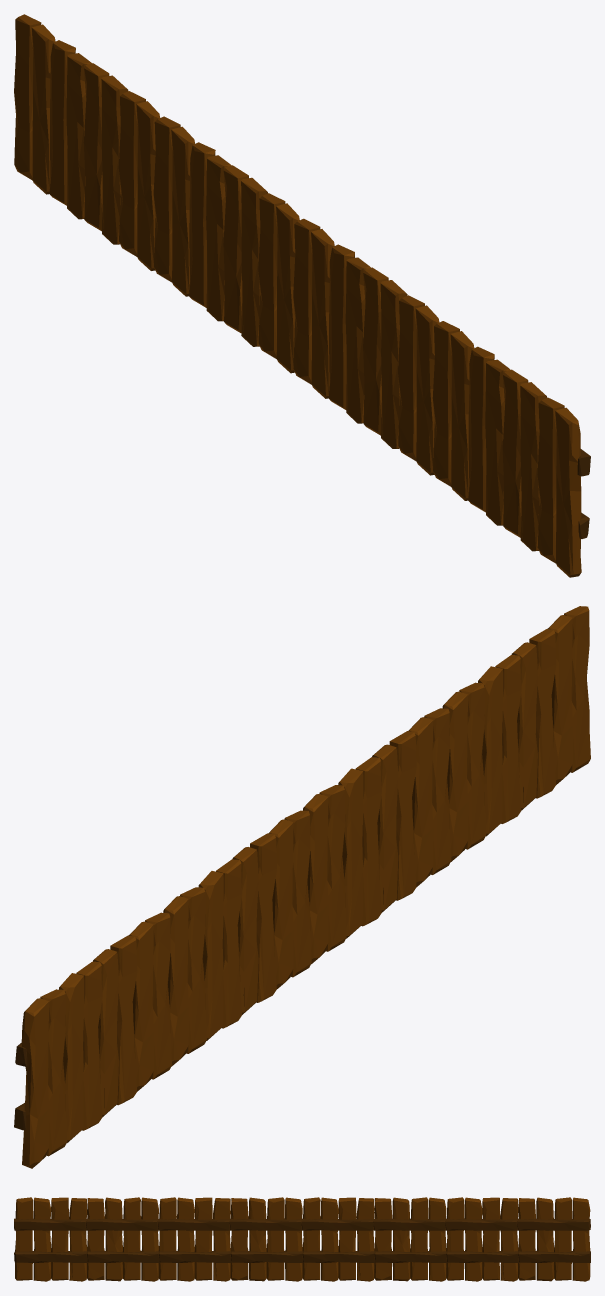
The model's file is PicketFence 8M.fbx.
3 renders of one model, top to bottom at view 1: azimuth 30°, elevation 25°; view 2: azimuth 150°, elevation 25°; view 3: azimuth 270°, elevation 25°, orthographic. The views are drawn at different scales.
Parts seen in each view (by area): view 1: Cube.032, Cube.033, Cube.069, Cube.055, Cube.081, Cube.040, Cube.054, Cube.056, Cube.076, Cube.070, Cube.080, Cube.088 (+20 smaller); view 2: Cube.087, Cube.071, Cube.061, Cube.075, Cube.035, Cube.039, Cube.057, Cube.083, Cube.053, Cube.067, Cube.079, Cube.031 (+20 smaller); view 3: Cube.069, Cube.055, Cube.081, Cube.033, Cube.062, Cube.040, Cube.054, Cube.076, Cube.068, Cube.088, Cube.079, Cube.067 (+36 smaller).
Boxes of the visible parts, bbox=[...] form: Cube.032: bbox=[555, 407, 581, 577]; Cube.033: bbox=[520, 382, 546, 551]; Cube.069: bbox=[241, 177, 267, 346]; Cube.055: bbox=[380, 280, 407, 448]; Cube.081: bbox=[101, 75, 128, 244]; Cube.040: bbox=[450, 331, 474, 500]; Cube.054: bbox=[415, 305, 439, 475]; Cube.056: bbox=[345, 257, 370, 423]; Cube.076: bbox=[171, 126, 194, 296]; Cube.070: bbox=[206, 155, 231, 321]; Cube.080: bbox=[136, 101, 160, 270]; Cube.088: bbox=[31, 24, 55, 194]; Cube.087: bbox=[21, 998, 49, 1168]; Cube.071: bbox=[198, 871, 223, 1040]; Cube.061: bbox=[303, 793, 328, 964]; Cube.075: bbox=[163, 896, 188, 1066]; Cube.035: bbox=[478, 666, 502, 836]; Cube.039: bbox=[442, 691, 468, 861]; Cube.057: bbox=[338, 768, 363, 938]; Cube.083: bbox=[59, 973, 83, 1142]; Cube.053: bbox=[408, 717, 433, 887]; Cube.067: bbox=[269, 819, 293, 988]; Cube.079: bbox=[129, 921, 153, 1091]; Cube.031: bbox=[548, 615, 572, 784]; Cube.069: bbox=[338, 1197, 356, 1280]; Cube.055: bbox=[194, 1197, 212, 1280]; Cube.081: bbox=[482, 1197, 500, 1280]; Cube.033: bbox=[51, 1197, 68, 1280]; Cube.062: bbox=[266, 1197, 284, 1280]; Cube.040: bbox=[122, 1197, 140, 1280]; Cube.054: bbox=[158, 1197, 176, 1280]; Cube.076: bbox=[410, 1197, 428, 1280]; Cube.068: bbox=[302, 1197, 320, 1280]; Cube.088: bbox=[554, 1197, 571, 1280]; Cube.079: bbox=[464, 1197, 482, 1281]; Cube.067: bbox=[320, 1197, 338, 1281].
Bounding box in the file's own units: 32.21 × 250 × 1606.
